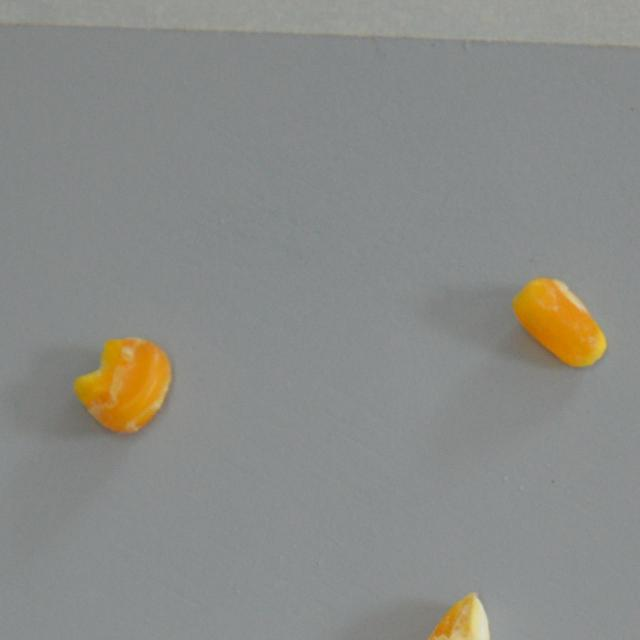pelicula: (72, 331, 174, 432), (510, 277, 607, 370), (405, 590, 492, 640)
